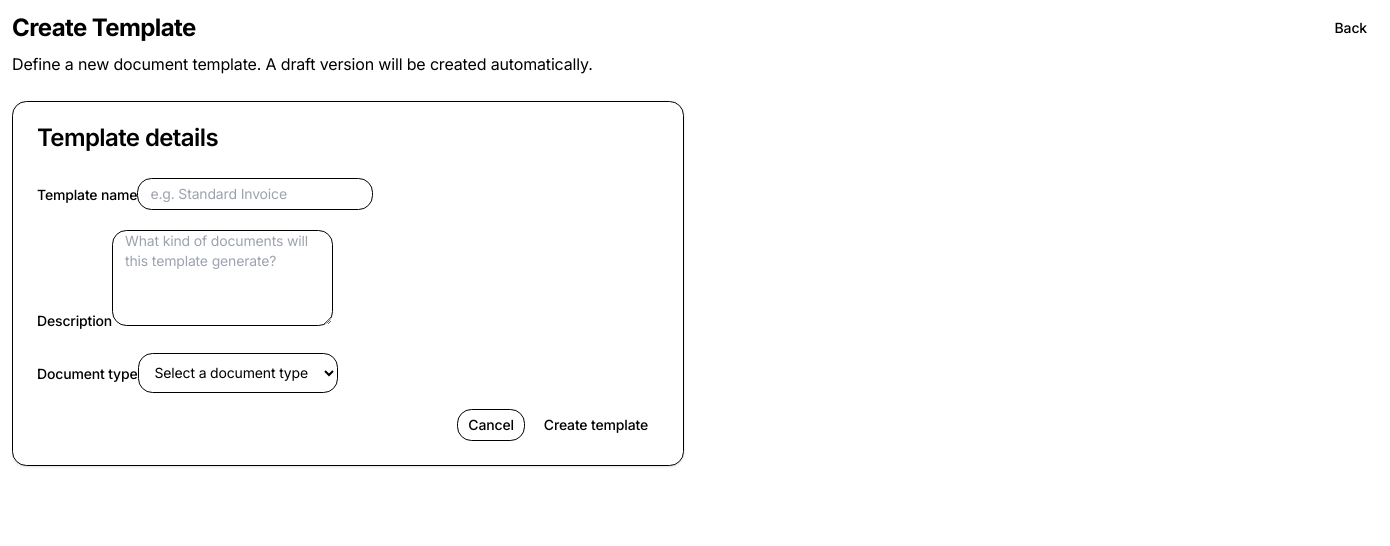
Test case: Create template page › shows an error when creation fails
This screenshot has width=1390, height=546.
In the field labelled "Template name": (255, 194) [137, 178, 373, 210], type "Invoice"
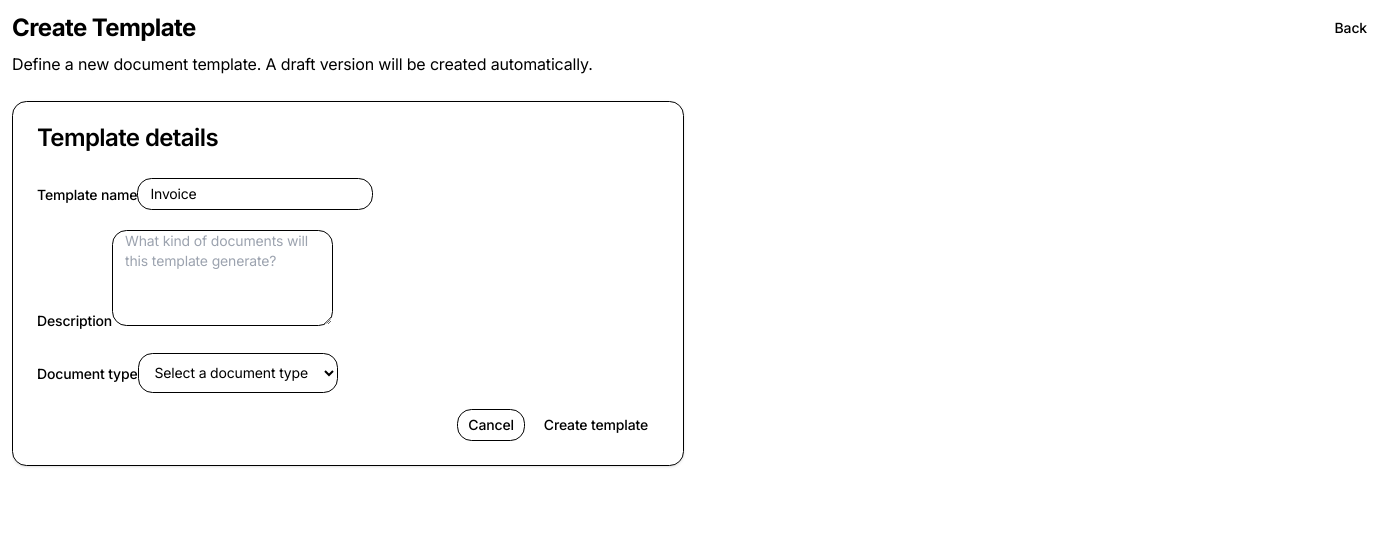
Select "Invoice" in the dropdown labelled "Document type": (238, 373) [138, 353, 338, 393]
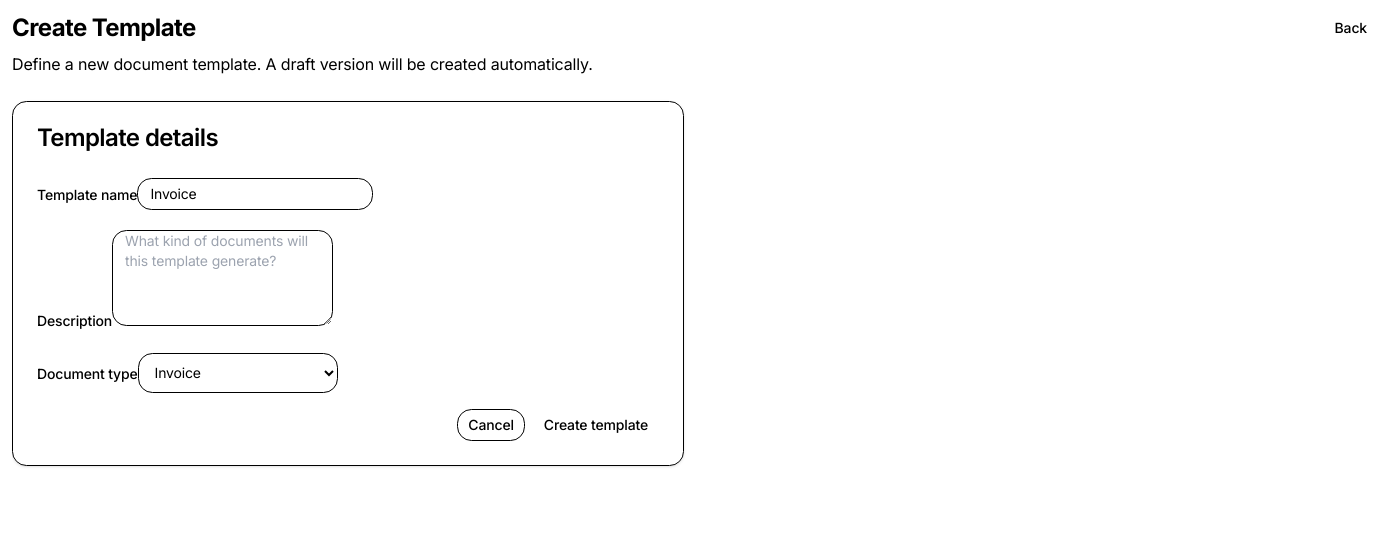
Click the button "Create template": (596, 425) [533, 409, 659, 441]
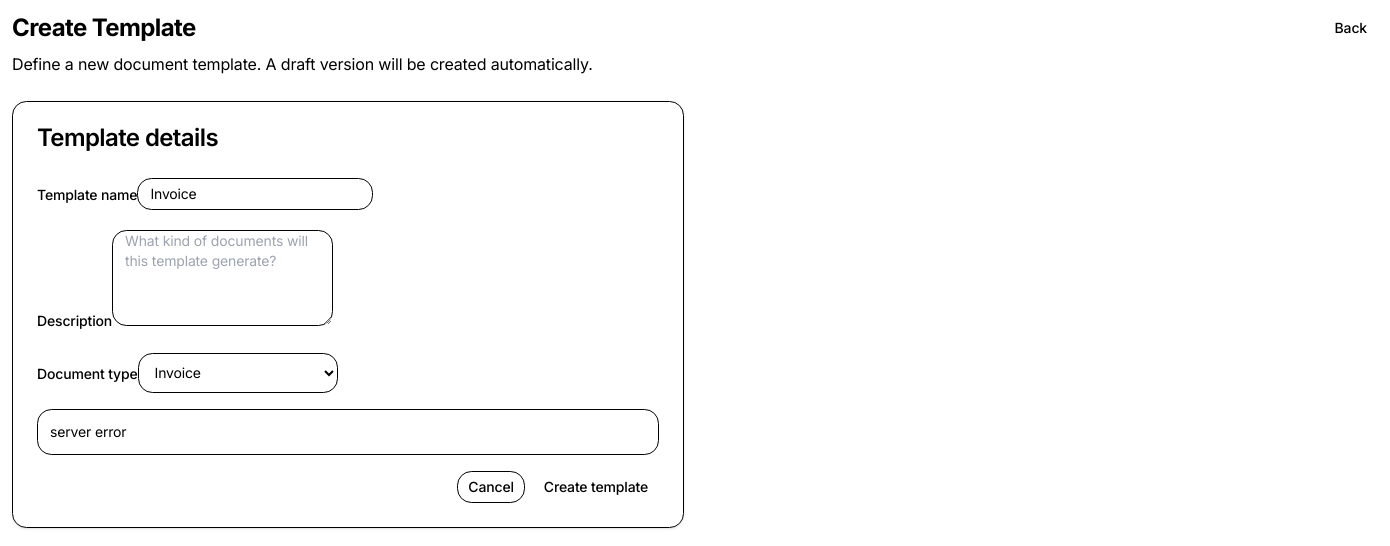
Now the text "server error" is shown, box [37, 409, 659, 455]
